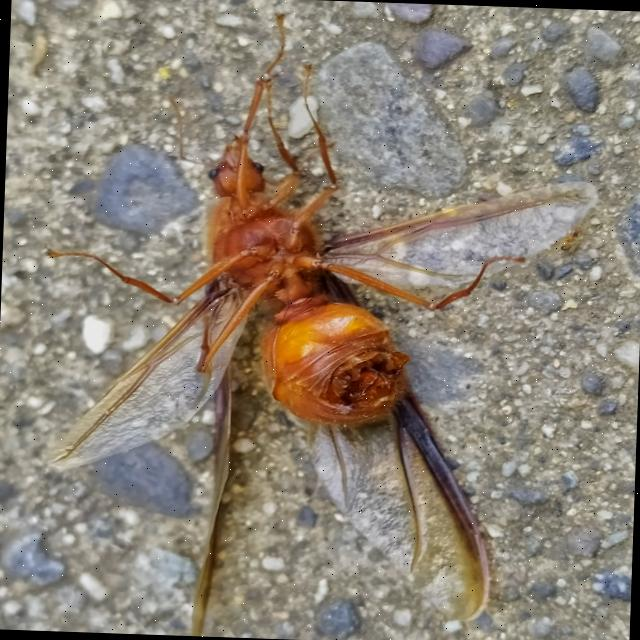Dead-Male-Alate: (31, 2, 601, 640)
